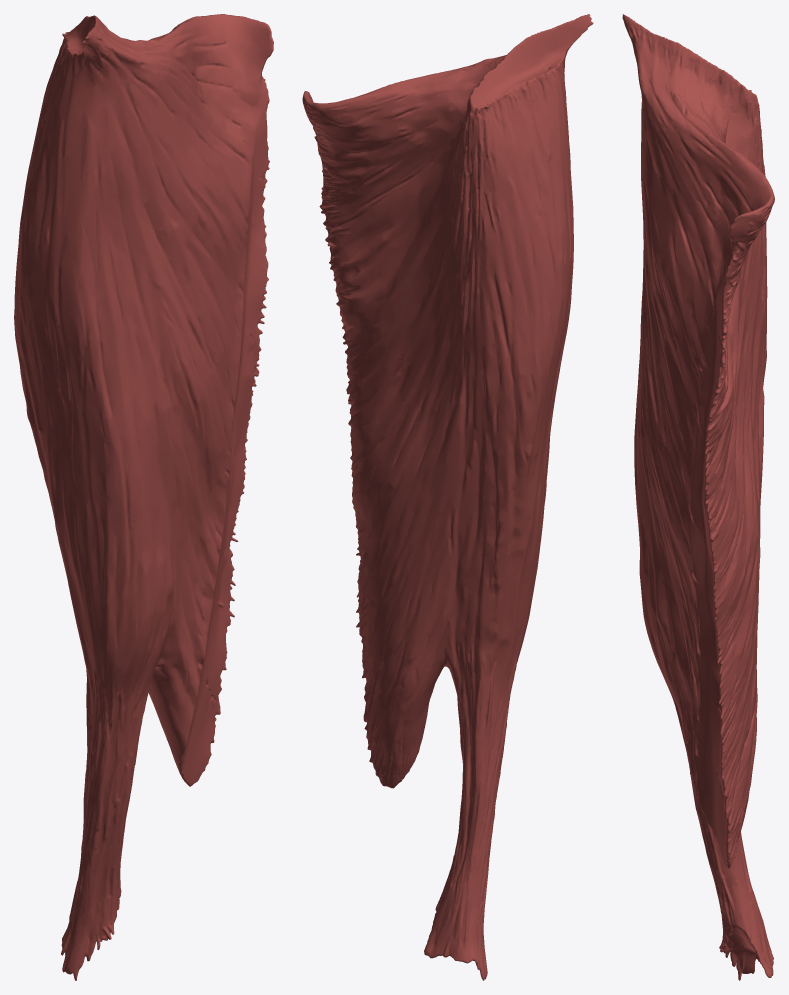
The model's file is FMA22460.glb.
3 renders of one model, left to right at view 1: azimuth 30°, elevation 25°; view 2: azimuth 150°, elevation 25°; view 3: azimuth 270°, elevation 25°, orthographic. The views are drawn at different scales.
Visible parts, largest first — view 1: FMA22460; view 2: FMA22460; view 3: FMA22460.
Boxes of the visible parts, x1,y1,x2,y2 form: FMA22460: [14, 14, 273, 980]; FMA22460: [302, 14, 593, 980]; FMA22460: [622, 14, 774, 980].
Size of the model in its own units: 0.0946 by 0.3461 by 0.0508.
